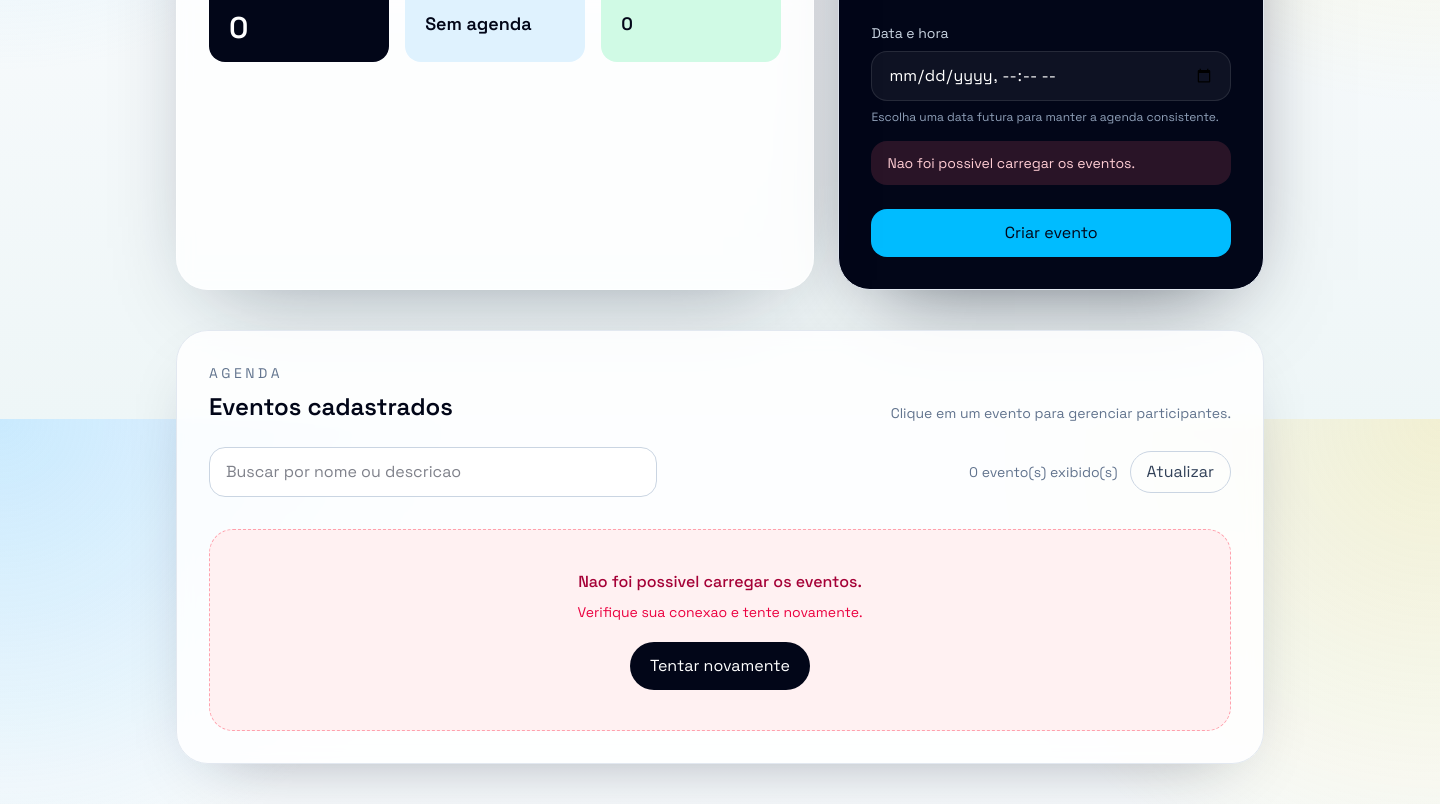
Test: HomePage › shows error state with retry when initial load fails
(page scrolled)
What coordinates should you click on to do the following:
click the button "Tentar novamente"
I would click on:
 (720, 666)
Its box is [630,642,810,690].
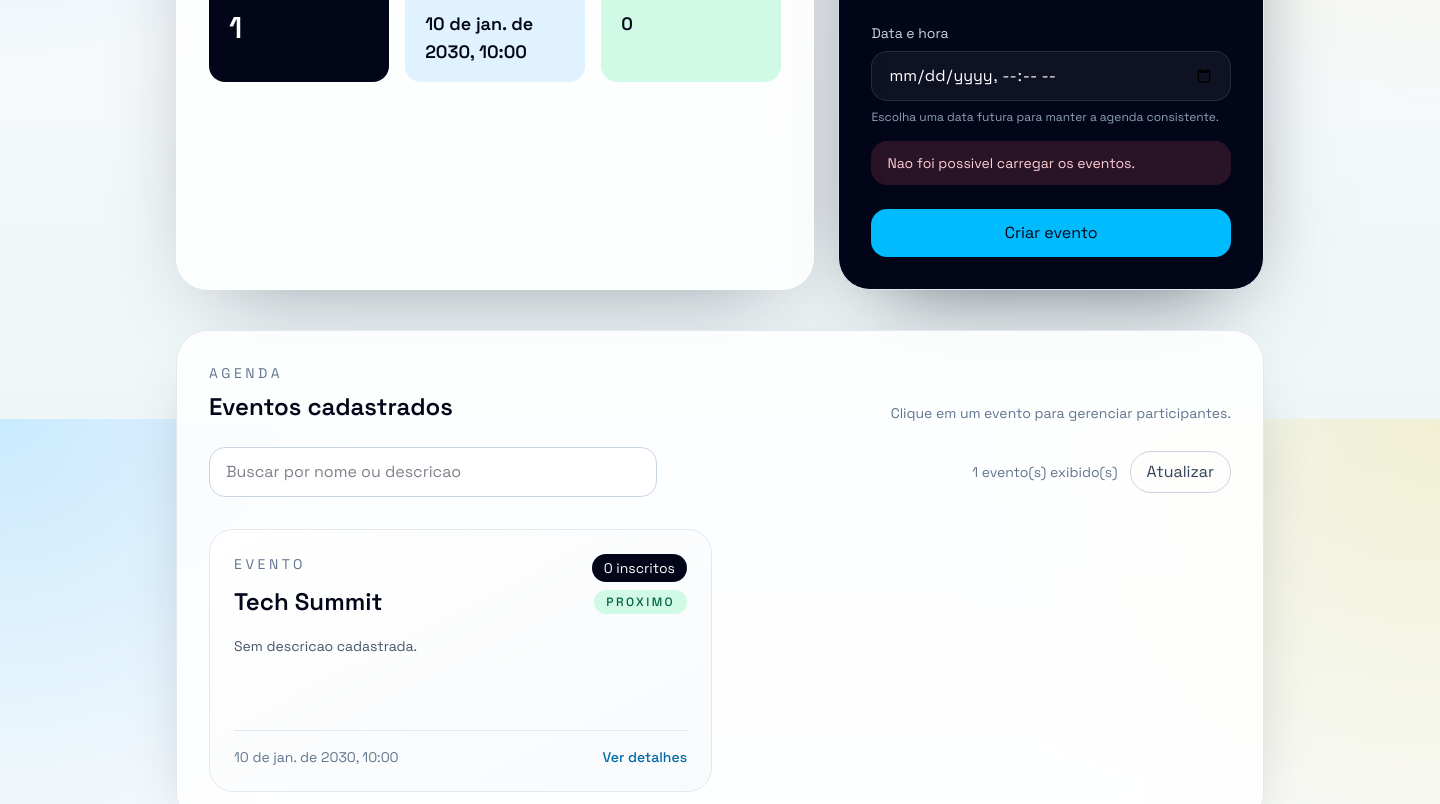
Expected: the heading "Tech Summit" is shown, [234,586,382,618]
